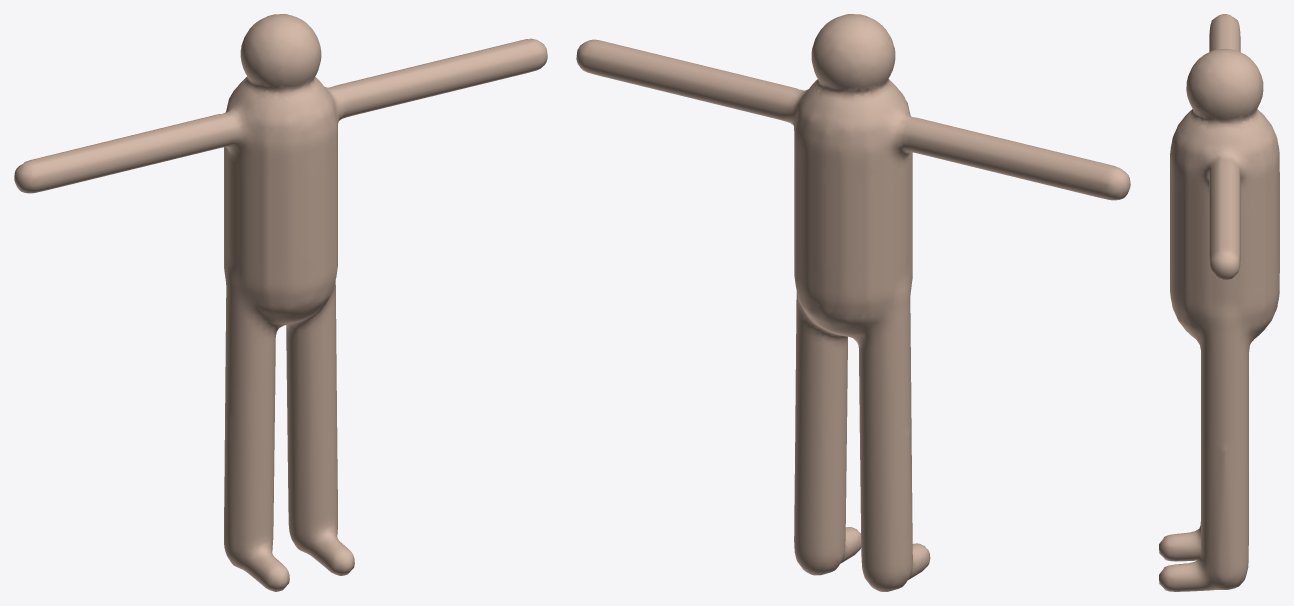
The model's file is humanoid.glb.
The picture shows the model from 3 angles, left to right: view 1: azimuth 30°, elevation 25°; view 2: azimuth 150°, elevation 25°; view 3: azimuth 270°, elevation 25°; orthographic projection. The views are drawn at different scales.
Parts seen in each view (by area): view 1: Body; view 2: Body; view 3: Body.
Boxes of the visible parts, x1,y1,x2,y2 form: Body: [14, 14, 547, 591]; Body: [576, 14, 1130, 591]; Body: [1159, 14, 1279, 591].
Bounding box in the file's own units: 1.79 × 1.76 × 0.369.
